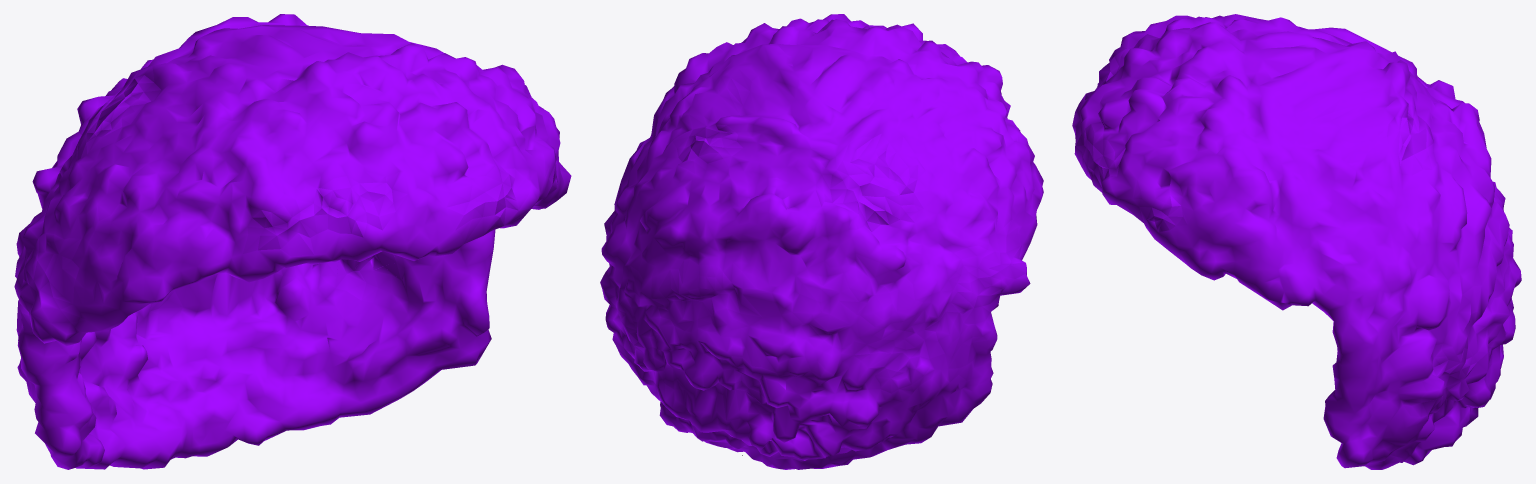
File: messy purple ape.glb
The picture shows the model from 3 angles, left to right: view 1: azimuth 30°, elevation 25°; view 2: azimuth 150°, elevation 25°; view 3: azimuth 270°, elevation 25°; orthographic projection. The views are drawn at different scales.
Parts seen in each view (by area): view 1: hair_short_messy_purple_ape.001; view 2: hair_short_messy_purple_ape.001; view 3: hair_short_messy_purple_ape.001.
Part boxes in pixels (bbox=[...]): hair_short_messy_purple_ape.001: bbox=[14, 14, 571, 469]; hair_short_messy_purple_ape.001: bbox=[600, 14, 1043, 469]; hair_short_messy_purple_ape.001: bbox=[1072, 14, 1521, 469].
Bounding box in the file's own units: 0.3525 × 0.3212 × 0.3231.
Materials: 1 (1 with a texture image).
